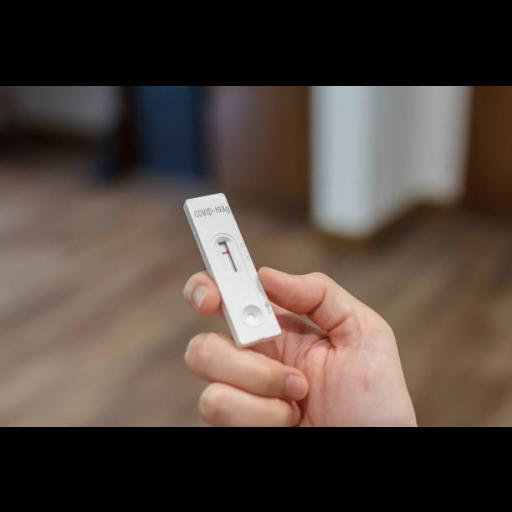Neg: (183, 193, 282, 343)
